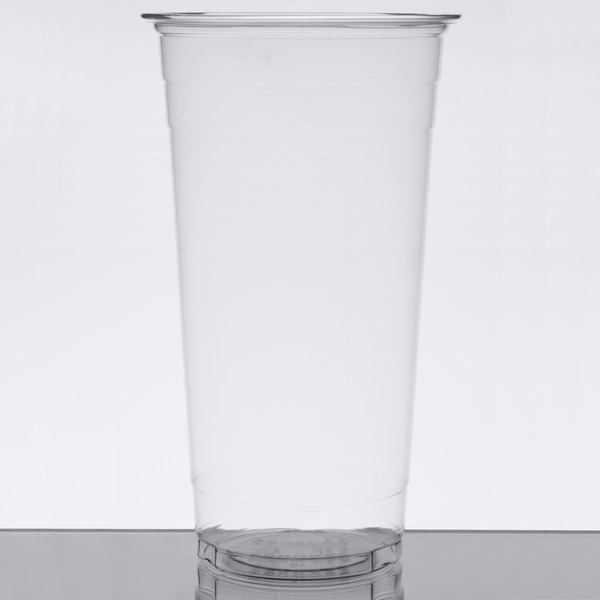plastic_glass: (137, 3, 488, 593)
